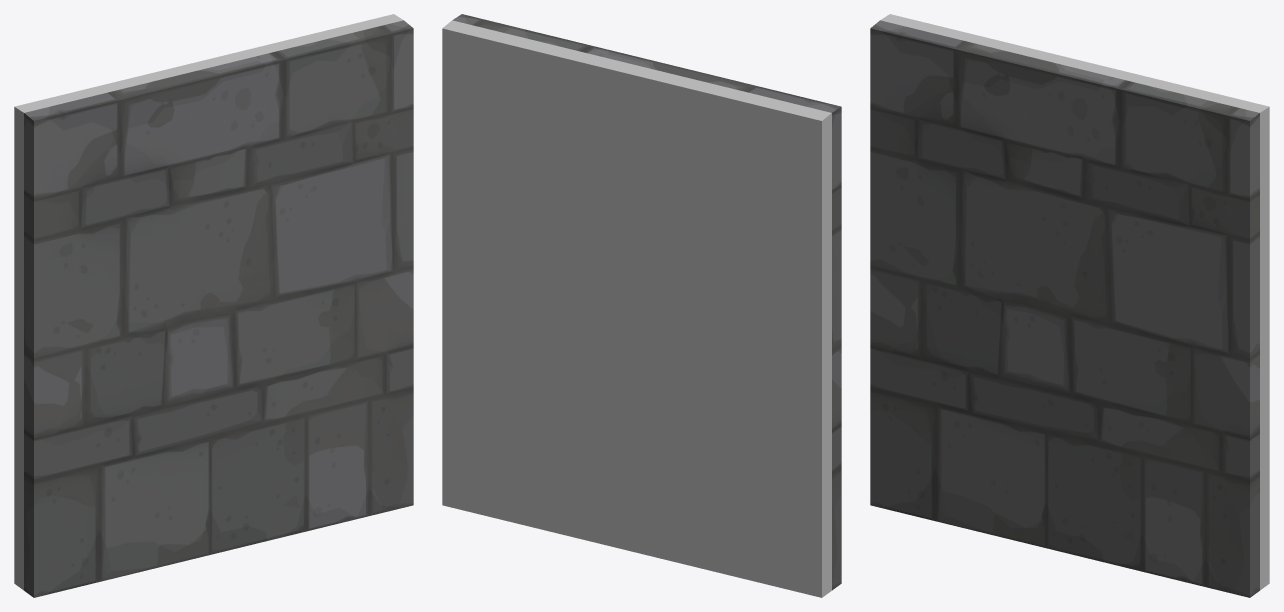
File: SM_Bld_Wall_L_01.fbx
The picture shows the model from 3 angles, left to right: view 1: azimuth 30°, elevation 25°; view 2: azimuth 150°, elevation 25°; view 3: azimuth 330°, elevation 25°; orthographic projection.
Visible parts, largest first — view 1: SM_Bld_Wall_L_01; view 2: SM_Bld_Wall_L_01; view 3: SM_Bld_Wall_L_01.
Boxes of the visible parts, x1,y1,x2,y2 form: SM_Bld_Wall_L_01: [14, 14, 413, 597]; SM_Bld_Wall_L_01: [442, 14, 841, 597]; SM_Bld_Wall_L_01: [870, 14, 1269, 597].
Size of the model in its own units: 500 by 601 by 45.
